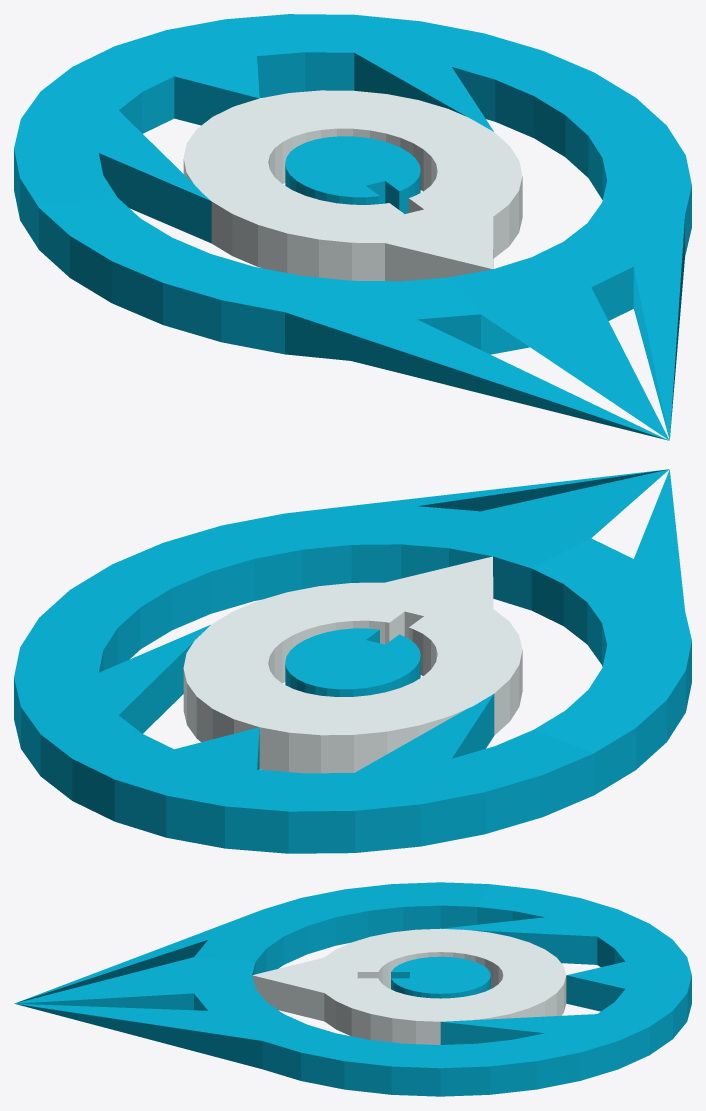
File: SpawnNode.fbx
3 views of the same model, one above another, from view 1: azimuth 30°, elevation 25°; view 2: azimuth 150°, elevation 25°; view 3: azimuth 270°, elevation 25° (orthographic). The views are drawn at different scales.
Visible parts, largest first — view 1: Cylinder; view 2: Cylinder; view 3: Cylinder.
Boxes of the visible parts, left/top/right/bottom form: Cylinder: left=14, top=14, right=691, bottom=440; Cylinder: left=14, top=469, right=691, bottom=853; Cylinder: left=14, top=882, right=691, bottom=1096.
Size of the model in its own units: 3.5 by 0.2494 by 5.39.
